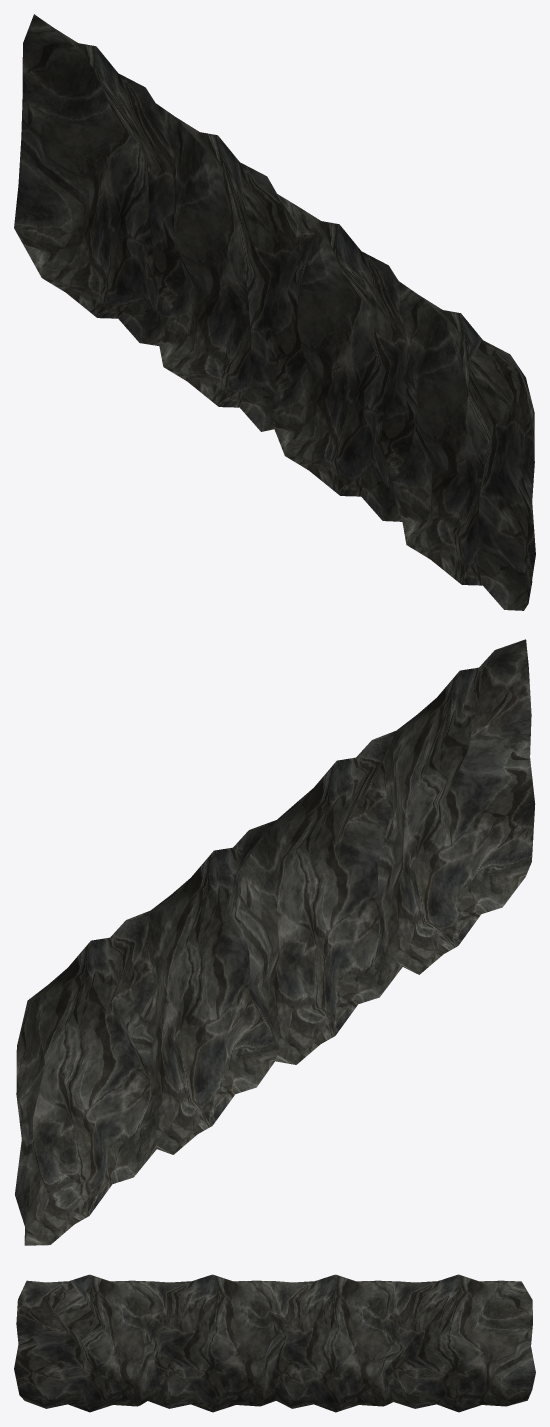
Rendered from Wall16x4.fbx.
3 renders of one model, top to bottom at view 1: azimuth 30°, elevation 25°; view 2: azimuth 150°, elevation 25°; view 3: azimuth 270°, elevation 25°, orthographic. The views are drawn at different scales.
Parts seen in each view (by area): view 1: Wall4x16; view 2: Wall4x16; view 3: Wall4x16.
Part boxes in pixels (x1,y1,x2,y2): Wall4x16: [14, 14, 535, 610]; Wall4x16: [15, 639, 535, 1245]; Wall4x16: [14, 1274, 535, 1412].
Bounding box in the file's own units: 0.9099 × 4.94 × 16.98.
